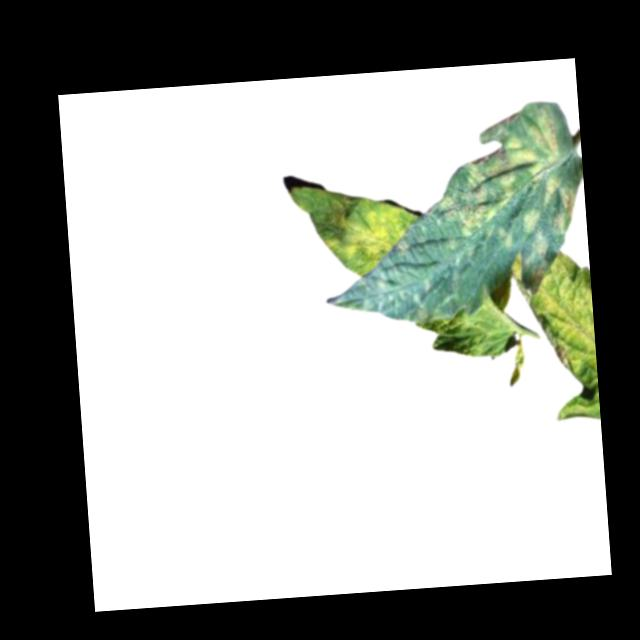Leaf_Mold: (423, 104, 579, 251), (516, 240, 596, 374), (324, 198, 412, 272)
